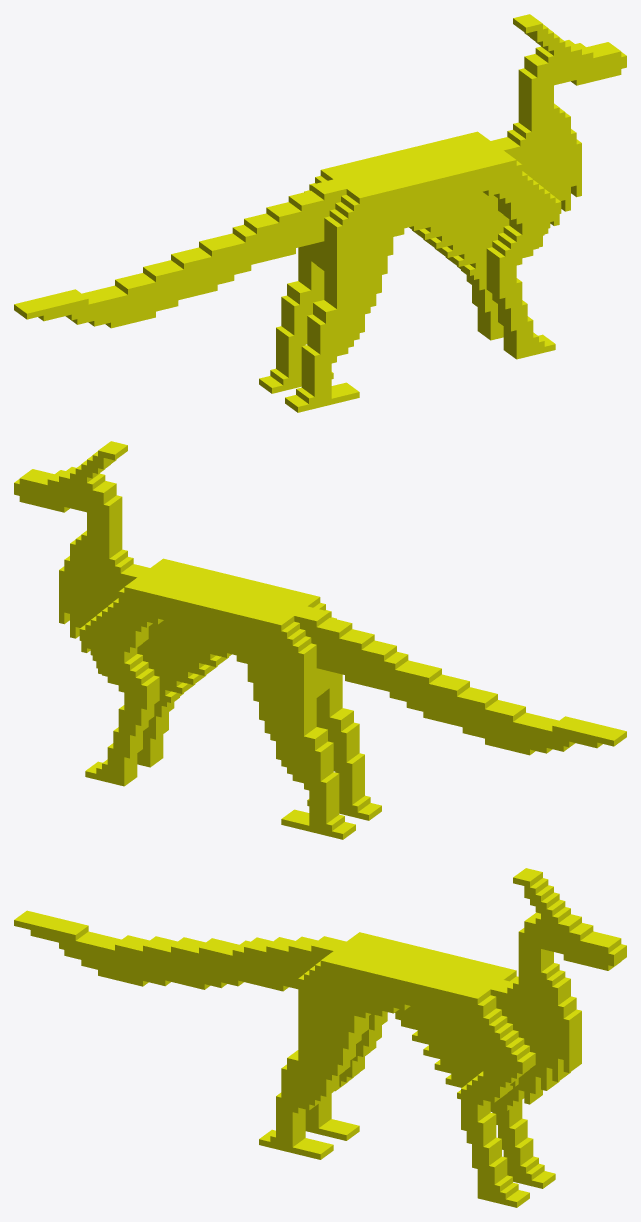
Rendered from Wind_Immortal.gltf.
The picture shows the model from 3 angles, top to bottom: view 1: azimuth 30°, elevation 25°; view 2: azimuth 150°, elevation 25°; view 3: azimuth 330°, elevation 25°; orthographic projection.
Visible parts, largest first — view 1: Wind_Immortal-Mesh; view 2: Wind_Immortal-Mesh; view 3: Wind_Immortal-Mesh.
Part boxes in pixels (x1,y1,x2,y2): Wind_Immortal-Mesh: (14,14,626,412); Wind_Immortal-Mesh: (14,441,626,839); Wind_Immortal-Mesh: (14,868,626,1207).
Size of the model in its own units: 53.5 by 27 by 6.
Materials: 1 (1 with a texture image).
